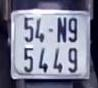4: (36, 46, 50, 73), (35, 14, 46, 44), (52, 47, 64, 73)
5: (22, 15, 35, 43), (22, 46, 35, 74)
9: (67, 46, 80, 73), (68, 15, 79, 43)
N: (55, 16, 67, 43)
